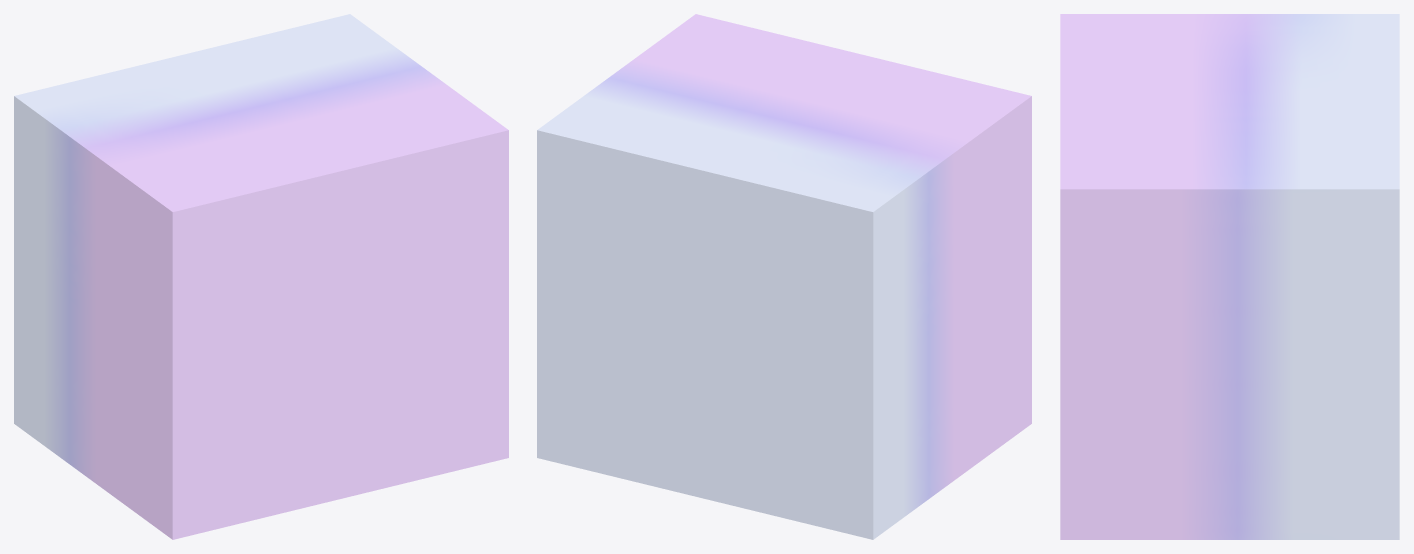
3 views of the same model, side by side, from view 1: azimuth 30°, elevation 25°; view 2: azimuth 150°, elevation 25°; view 3: azimuth 270°, elevation 25° (orthographic). The views are drawn at different scales.
Visible parts, largest first — view 1: AR-Room; view 2: AR-Room; view 3: AR-Room.
Boxes of the visible parts, x1,y1,x2,y2 form: AR-Room: (14,14,508,539); AR-Room: (537,14,1031,539); AR-Room: (1060,14,1399,539).
Size of the model in its own units: 45.3 by 42.21 by 37.06.
1 material, 1 textured.
